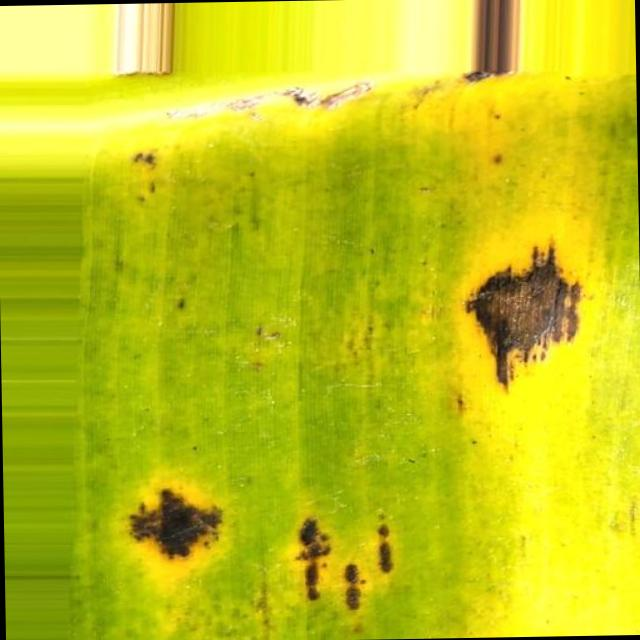Banana_Yellow_Sigatoka: (430, 206, 610, 409), (76, 458, 252, 620), (285, 501, 422, 625)
